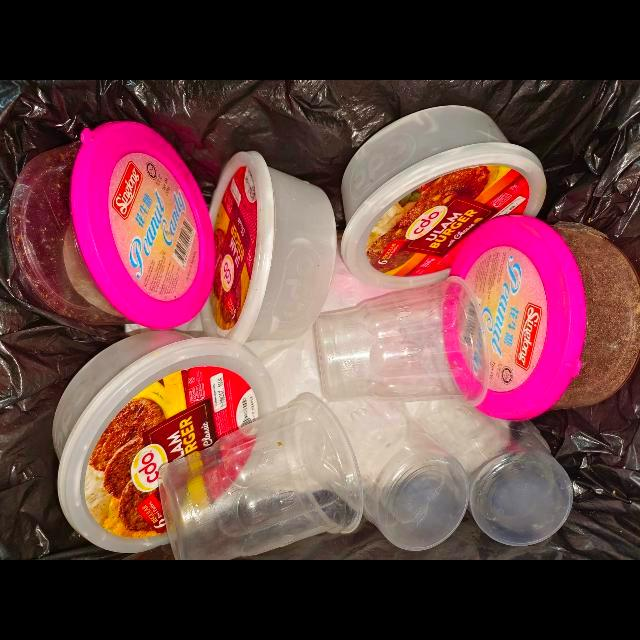plastic_container: (52, 330, 278, 554), (9, 122, 216, 330), (442, 216, 640, 422), (339, 106, 547, 293), (156, 392, 364, 560), (200, 152, 337, 345), (418, 398, 573, 547), (314, 278, 488, 407), (330, 398, 472, 552)
